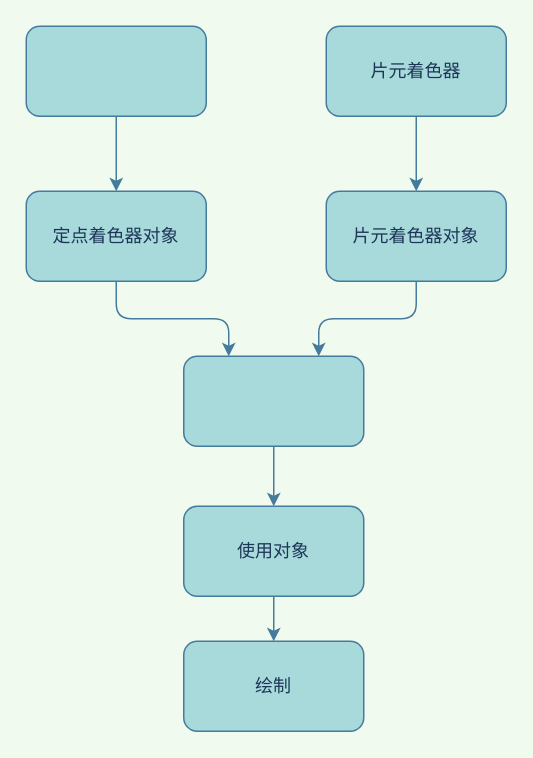
The diagram is 533 pixels wide and 758 high, and some of its shapes have lost their labels. The centre of each missing label's shape, as x and y in pixels:
"程序对象" goes at point 273,400.
"顶点着色器" goes at point 115,70.
